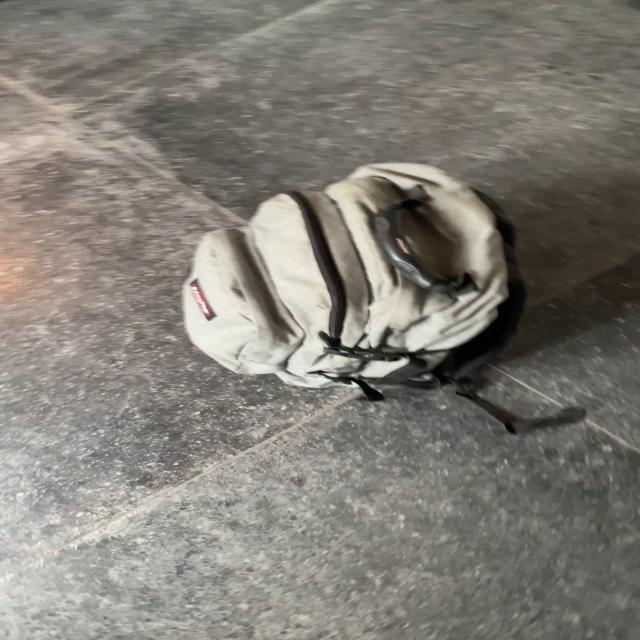backpack: (167, 156, 542, 396)
